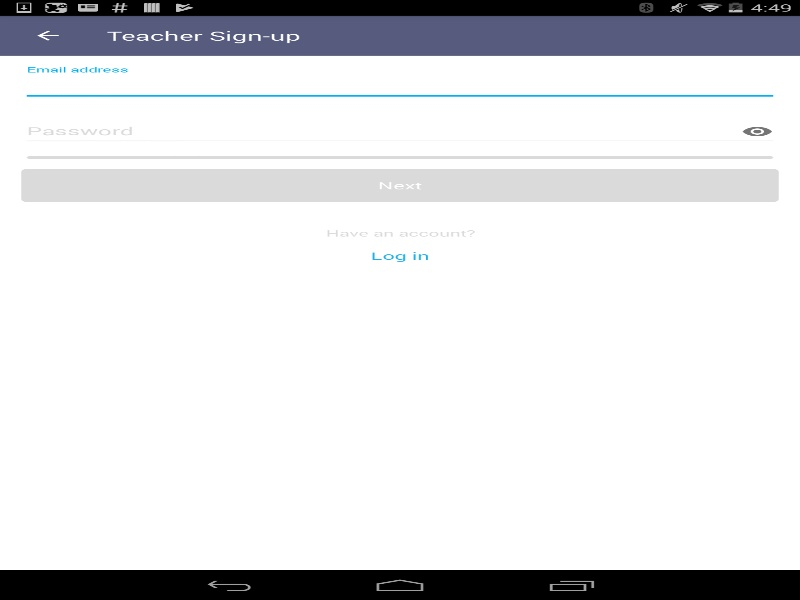Button: (21, 168, 778, 202), (10, 15, 85, 55), (736, 117, 778, 145)
Input: (21, 117, 778, 146), (21, 72, 778, 100)
